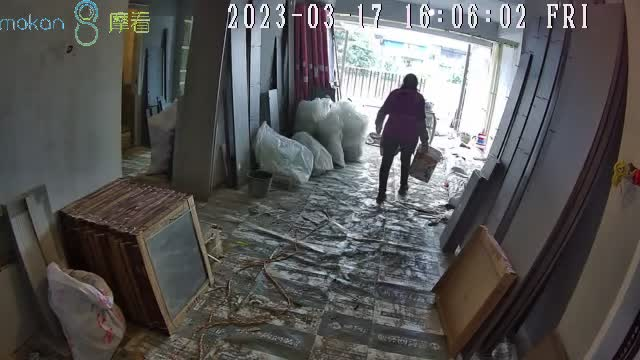people: (375, 73, 430, 203)
window: (332, 17, 490, 134)
